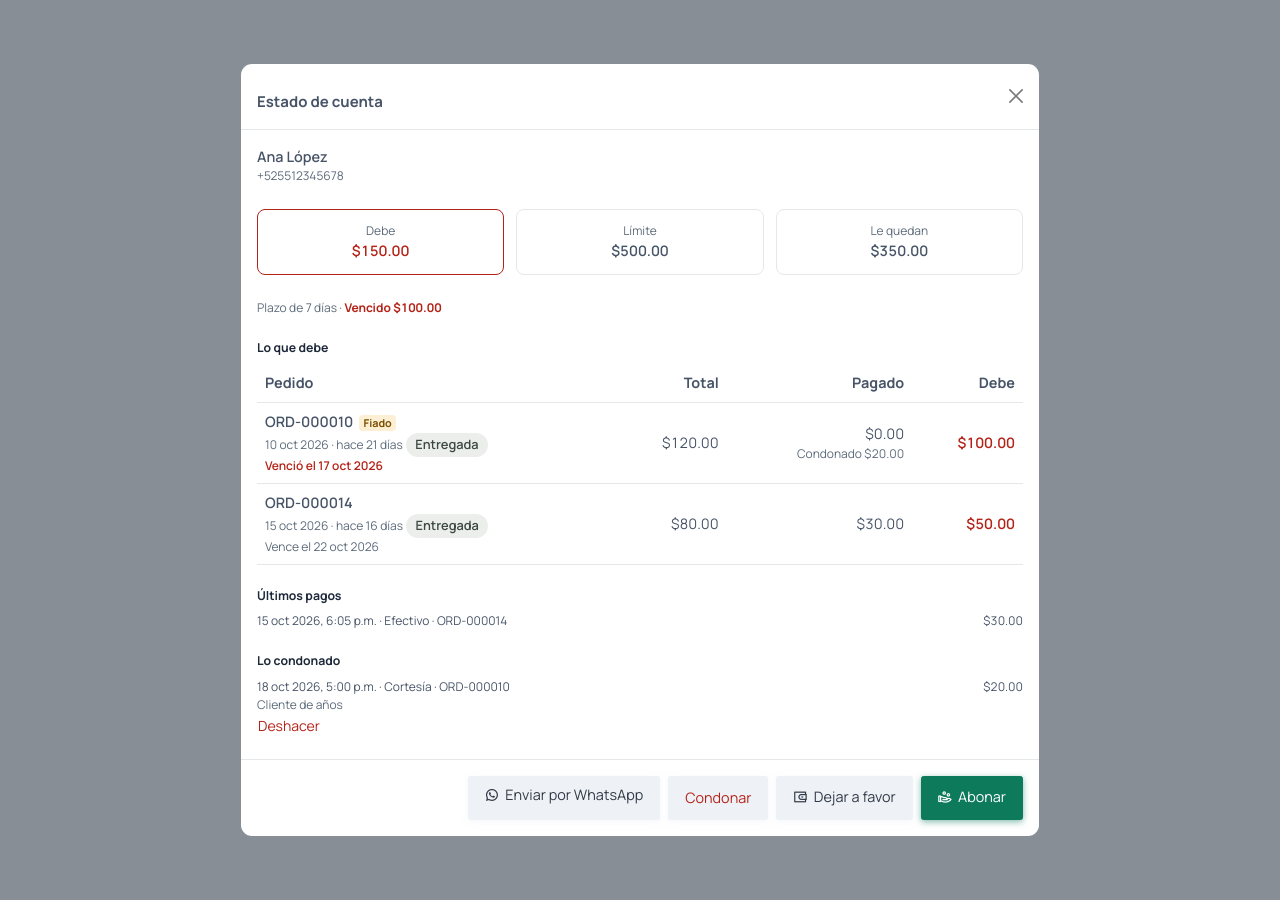
it: CustomerAccountModal › lets an owner undo a write-off made by mistake, after asking, and shows it undone
This screenshot has width=1280, height=900.
Click the button with aria-label "Deshacer lo condonado de ORD-000010": (289, 725) [257,714,321,737]
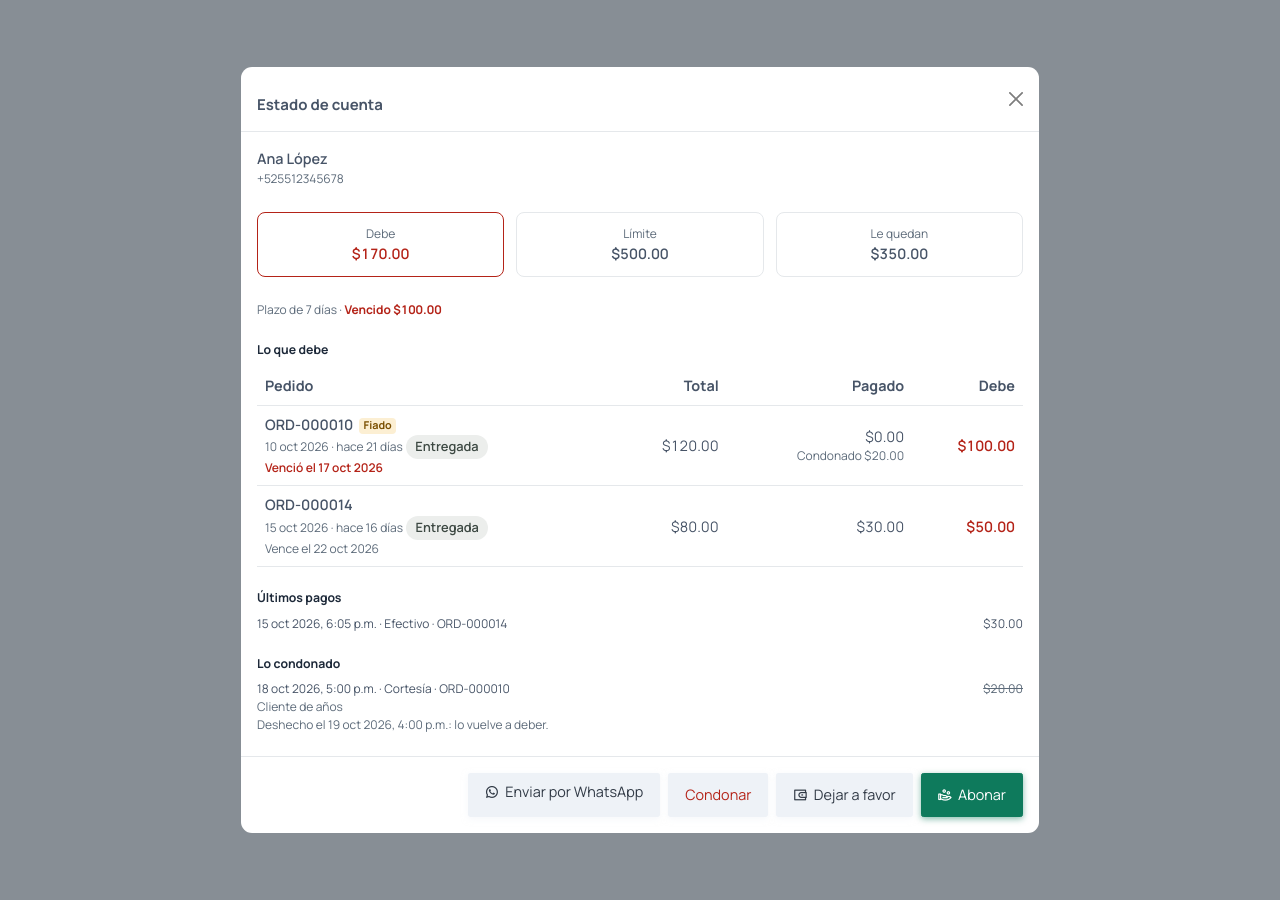
Check: the text "Deshecho el 19 oct 2026, 4:00 p.m.: lo vuelve a deber." is shown, box [257,716,549,733]
Check: the button "Deshacer" is gone
